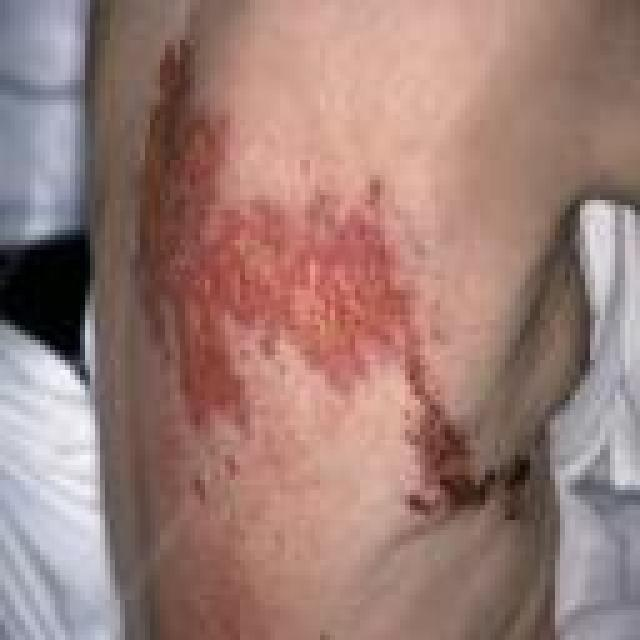Shingles: (136, 30, 526, 525)
